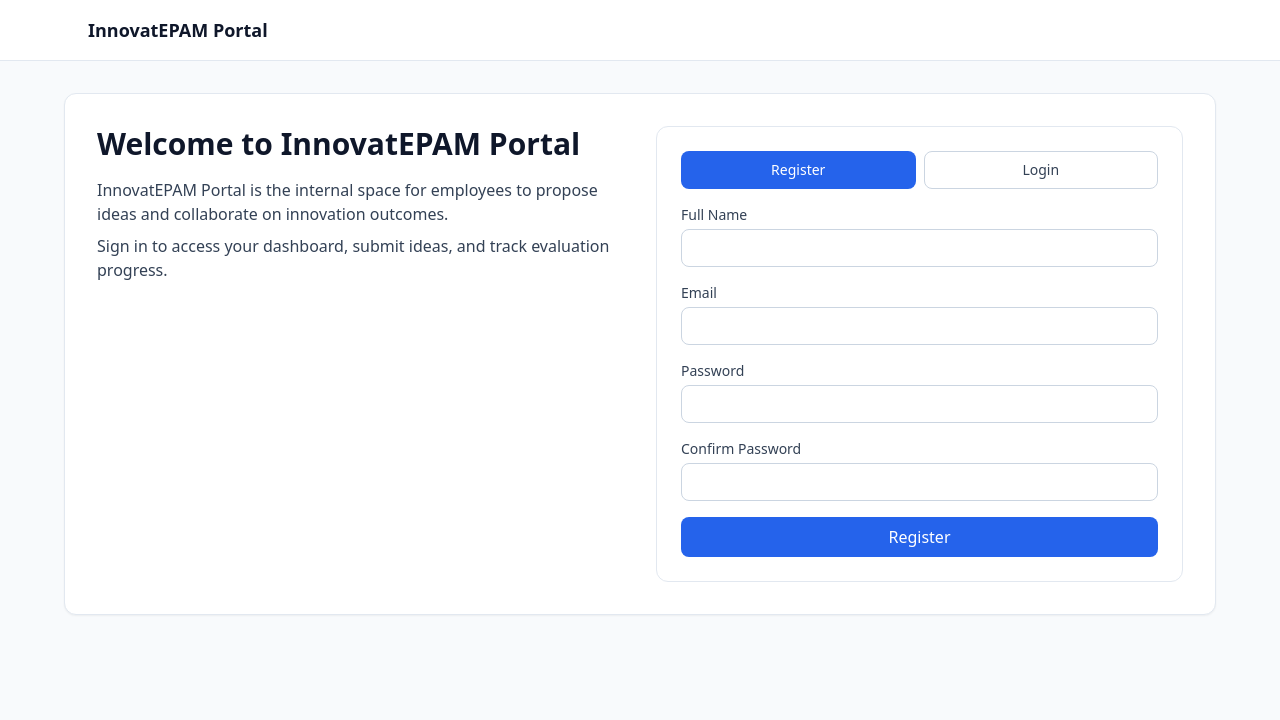
Scenario: App public entry and auth-aware navigation › submits register form on landing, shows success, and switches to login mode
Type "Alice Employee" into the field named "Full Name" at (920, 248), box x1=681 y1=229 x2=1158 y2=267
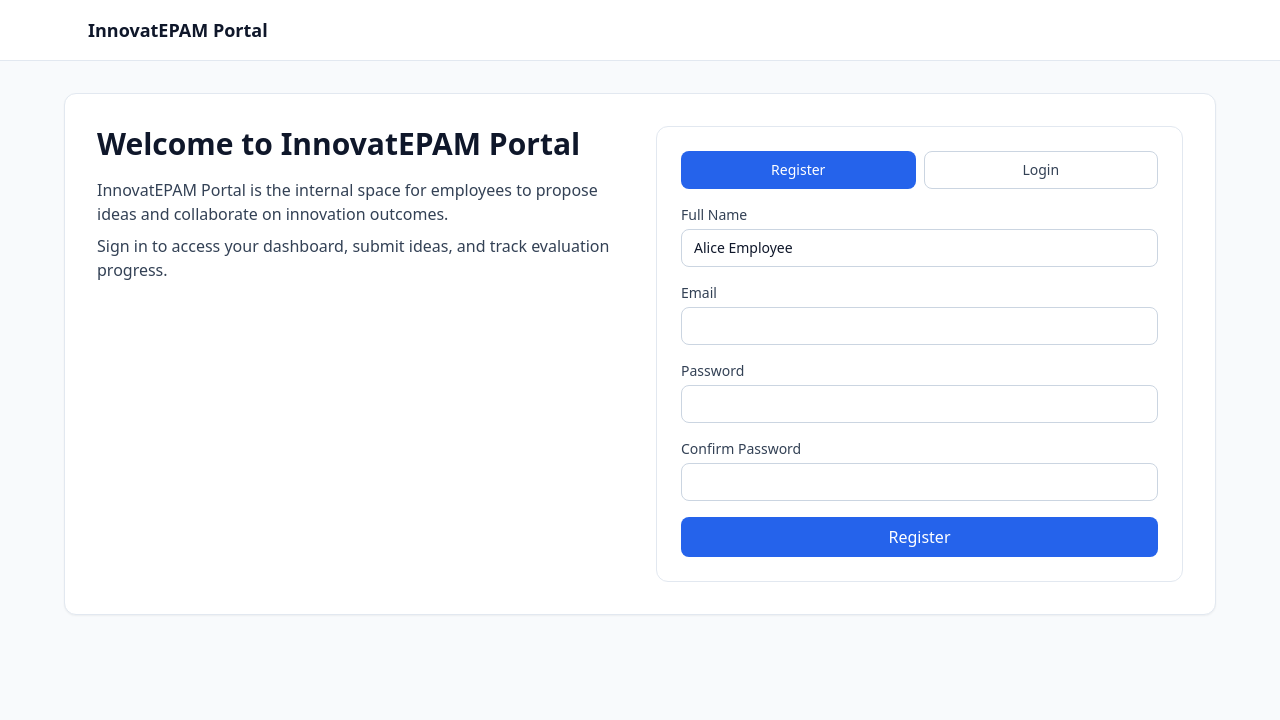
Type "alice@epam.com" into the field named "Email" at (920, 326), box x1=681 y1=307 x2=1158 y2=345
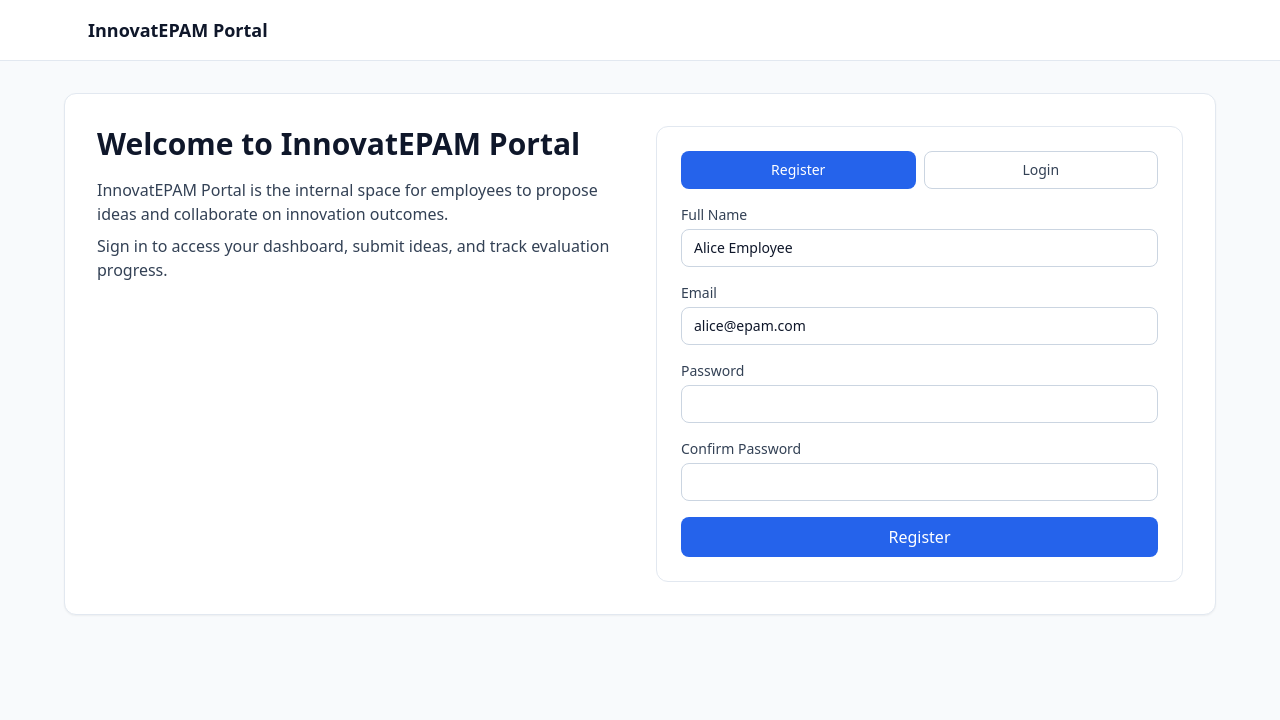
Type "StrongPass123!" into the password field named "Password" at (920, 404), box x1=681 y1=385 x2=1158 y2=423
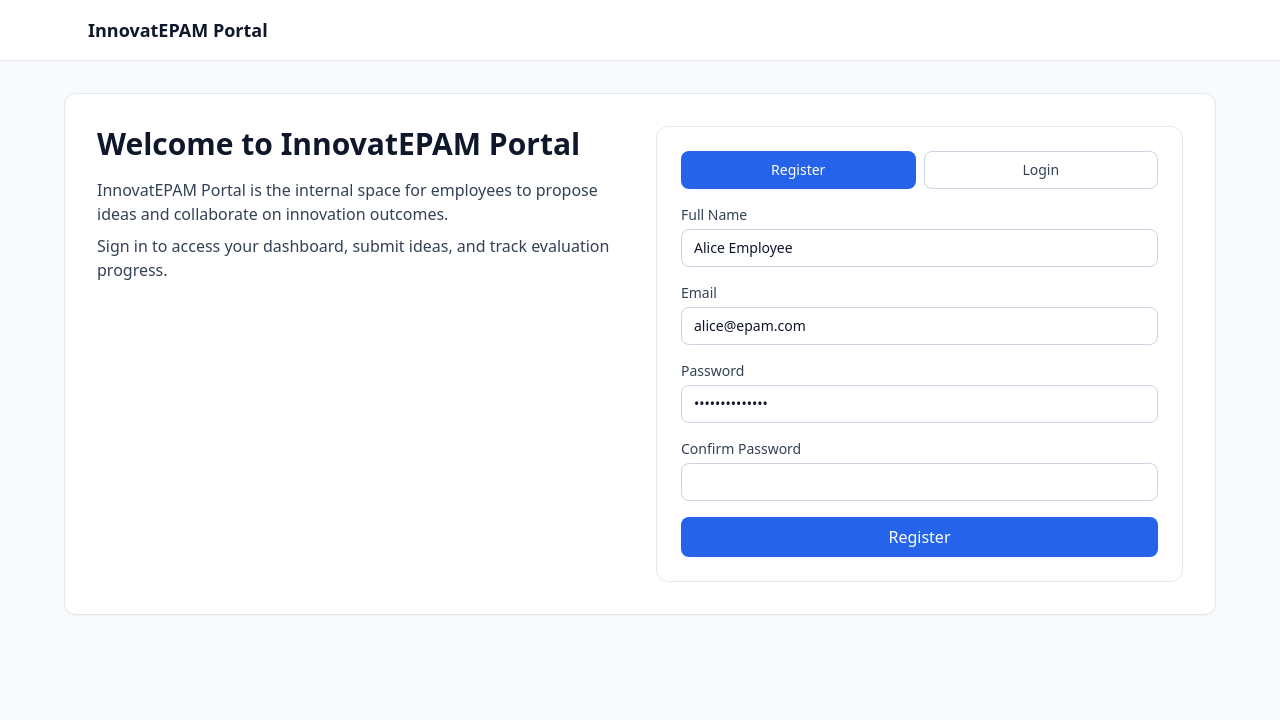
Type "StrongPass123!" into the password field named "Confirm Password" at (920, 482), box x1=681 y1=463 x2=1158 y2=501
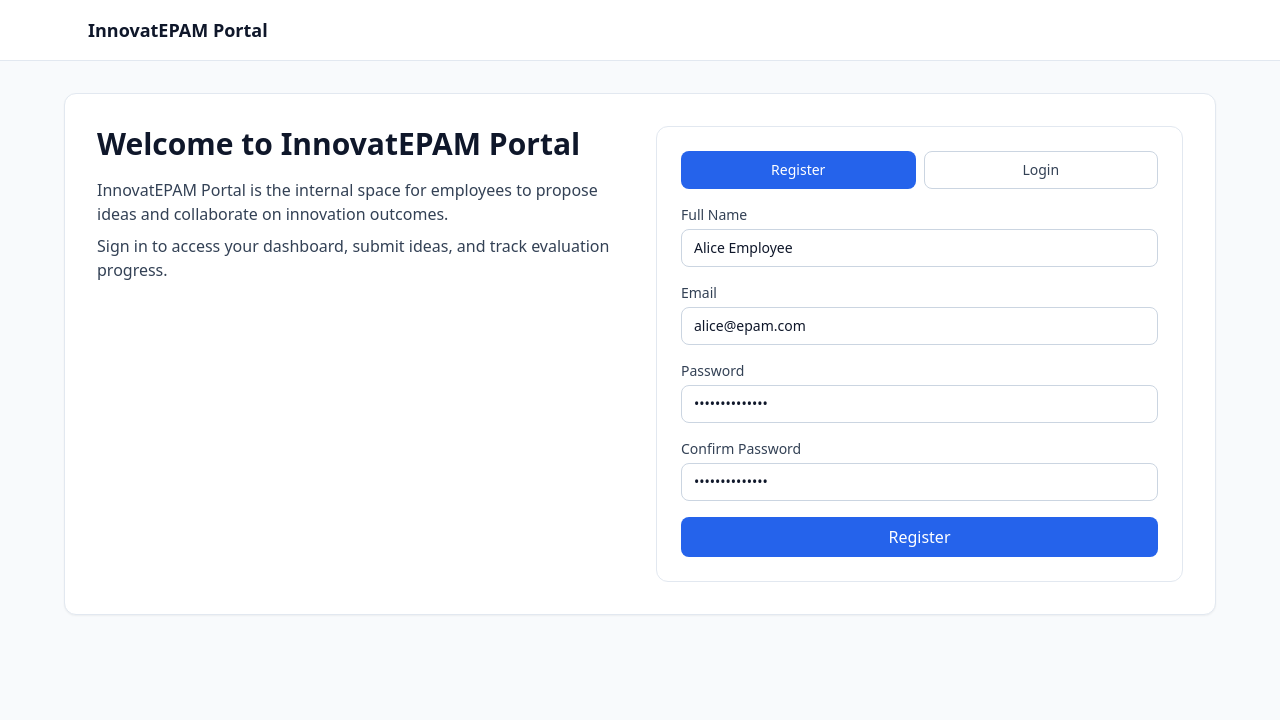
Submit the form, box x1=681 y1=205 x2=1158 y2=557
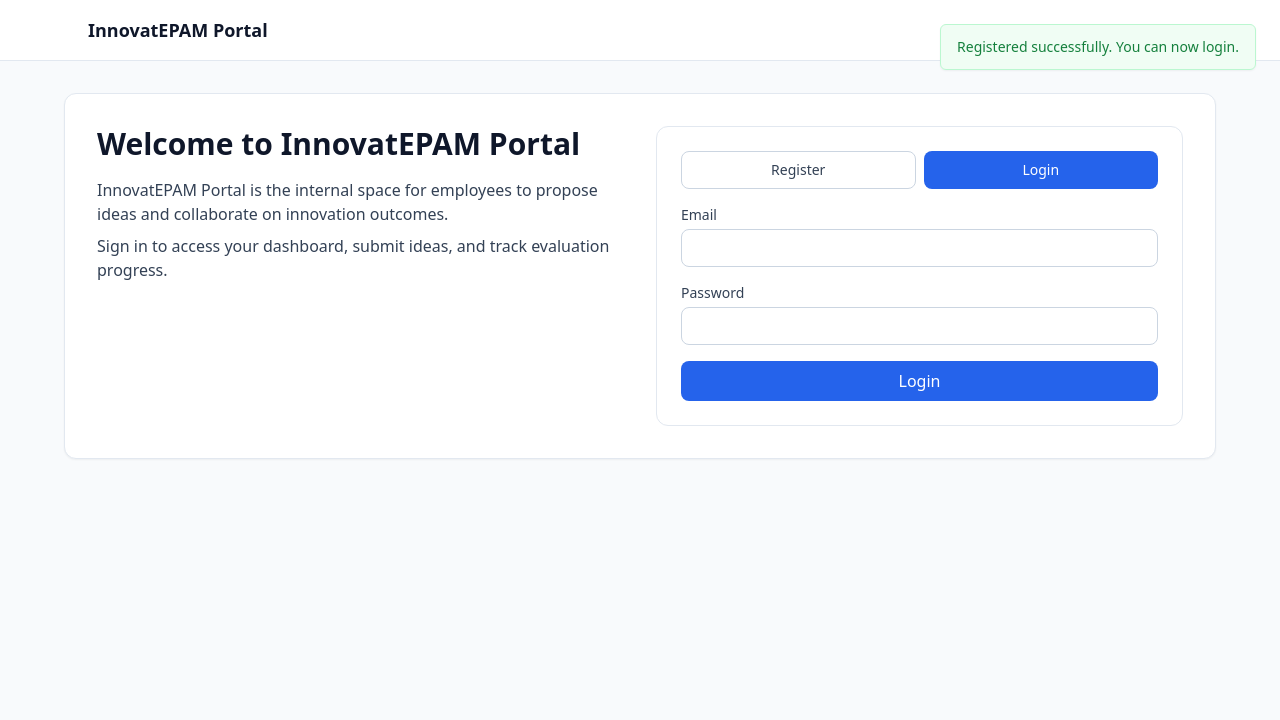
Expected: the text "Registered successfully. You can now login." is shown, x1=940 y1=24 x2=1256 y2=70
